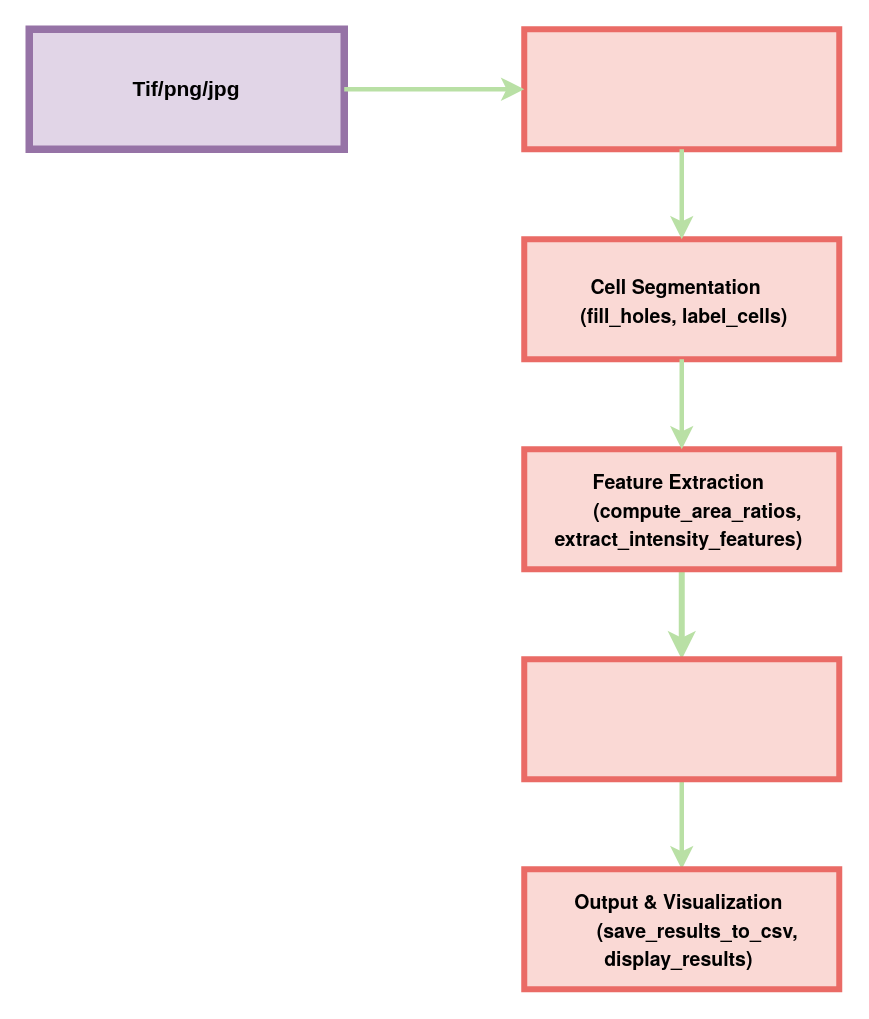
The diagram is 869 pixels wide and 1019 high, and some of its shapes have lost their labels. Each missing label, with the centre of its shape:
"Classification (classify_cells, visualize_classification)" goes at point 681,719.
"Image Preprocessing (load_image, convert_to_grayscale)" goes at point 681,89.
